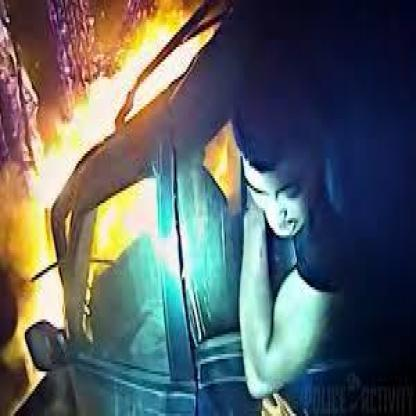fire: (1, 36, 242, 339)
